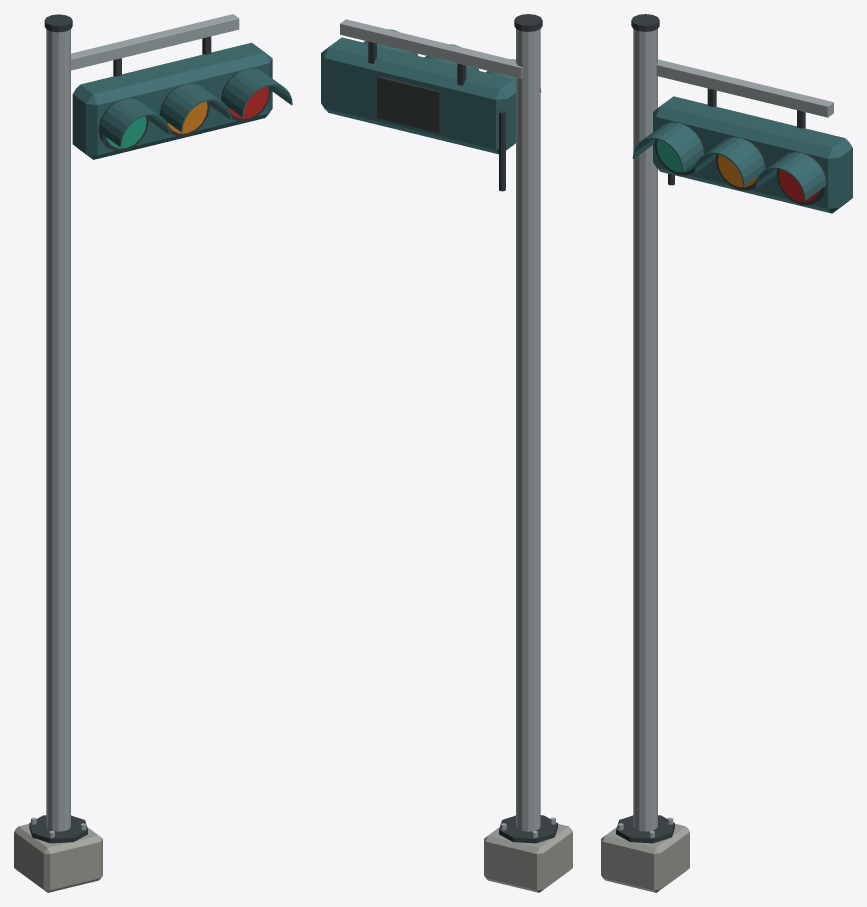
The model's file is traffic_signal.glb.
3 views of the same model, side by side, from view 1: azimuth 30°, elevation 25°; view 2: azimuth 150°, elevation 25°; view 3: azimuth 330°, elevation 25° (orthographic).
Parts seen in each view (by area): view 1: Vertical mast, Horizontal three-aspect housing, Foundation block, Horizontal mounting arm, Green open sun visor, Amber open sun visor, Red open sun visor, Anchor plate; view 2: Vertical mast, Horizontal three-aspect housing, Foundation block, Horizontal mounting arm, Rear service panel, Anchor plate, Rear conduit; view 3: Vertical mast, Horizontal three-aspect housing, Foundation block, Horizontal mounting arm, Red open sun visor, Amber open sun visor, Green open sun visor, Anchor plate, Red lens, Amber lens, Green lens.
Part boxes in pixels (x1,y1,x2,y2): Vertical mast: (46, 29, 70, 831); Horizontal three-aspect housing: (72, 42, 272, 159); Foundation block: (14, 815, 102, 892); Horizontal mounting arm: (71, 14, 239, 70); Green open sun visor: (99, 98, 170, 146); Amber open sun visor: (160, 83, 231, 132); Red open sun visor: (221, 68, 292, 117); Anchor plate: (29, 815, 87, 843); Vertical mast: (516, 29, 540, 831); Horizontal three-aspect housing: (321, 37, 515, 154); Foundation block: (484, 815, 572, 892); Horizontal mounting arm: (340, 19, 522, 78); Rear service panel: (377, 75, 441, 133); Anchor plate: (499, 815, 557, 843); Rear conduit: (499, 110, 505, 191); Vertical mast: (633, 29, 657, 831); Horizontal three-aspect housing: (653, 96, 852, 213); Foundation block: (601, 824, 689, 892); Horizontal mounting arm: (656, 59, 833, 117); Red open sun visor: (755, 152, 826, 200); Amber open sun visor: (694, 137, 764, 185); Green open sun visor: (632, 122, 703, 170); Anchor plate: (616, 815, 674, 843); Red lens: (779, 169, 819, 202); Amber lens: (718, 155, 758, 187); Green lens: (656, 140, 696, 172).
Size of the model in its own units: 1.42 by 4.95 by 0.57.
